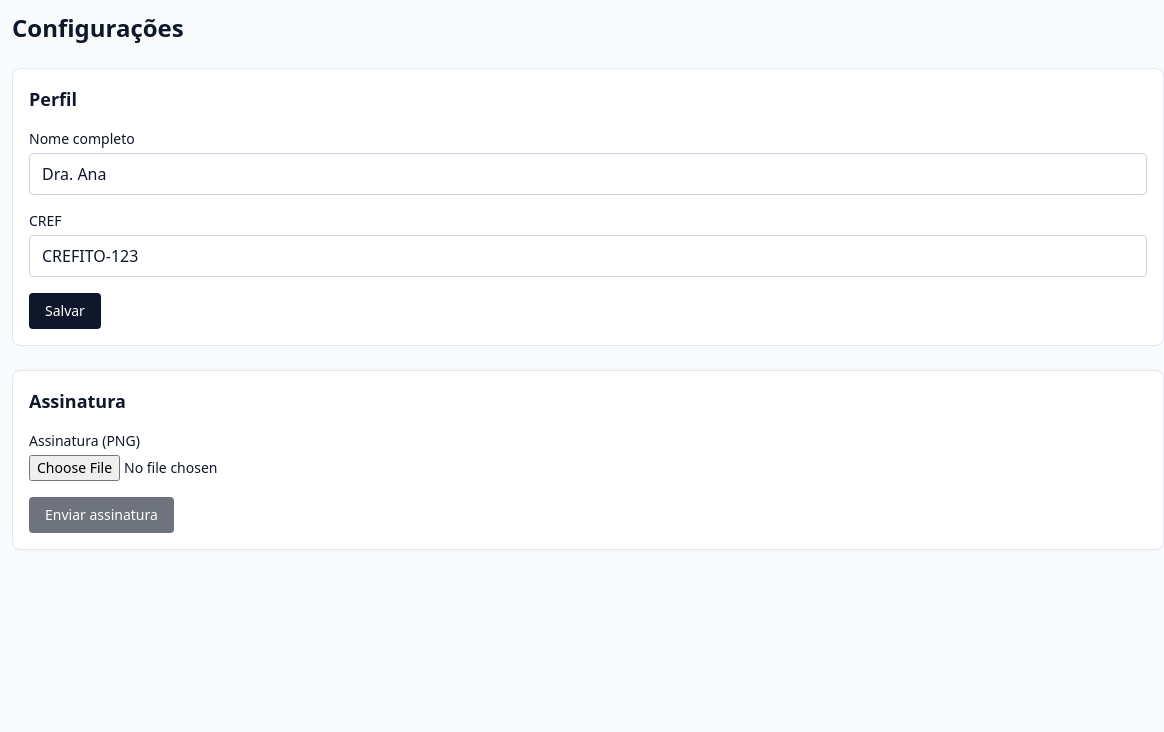
Test: Settings page › PATCHes /auth/me with the new name and CREF on save
The width and height of the screenshot is (1164, 732).
Replace the text in the field labelled "Nome completo" with "Dra. Maria" at (588,174), box [29, 153, 1147, 195]
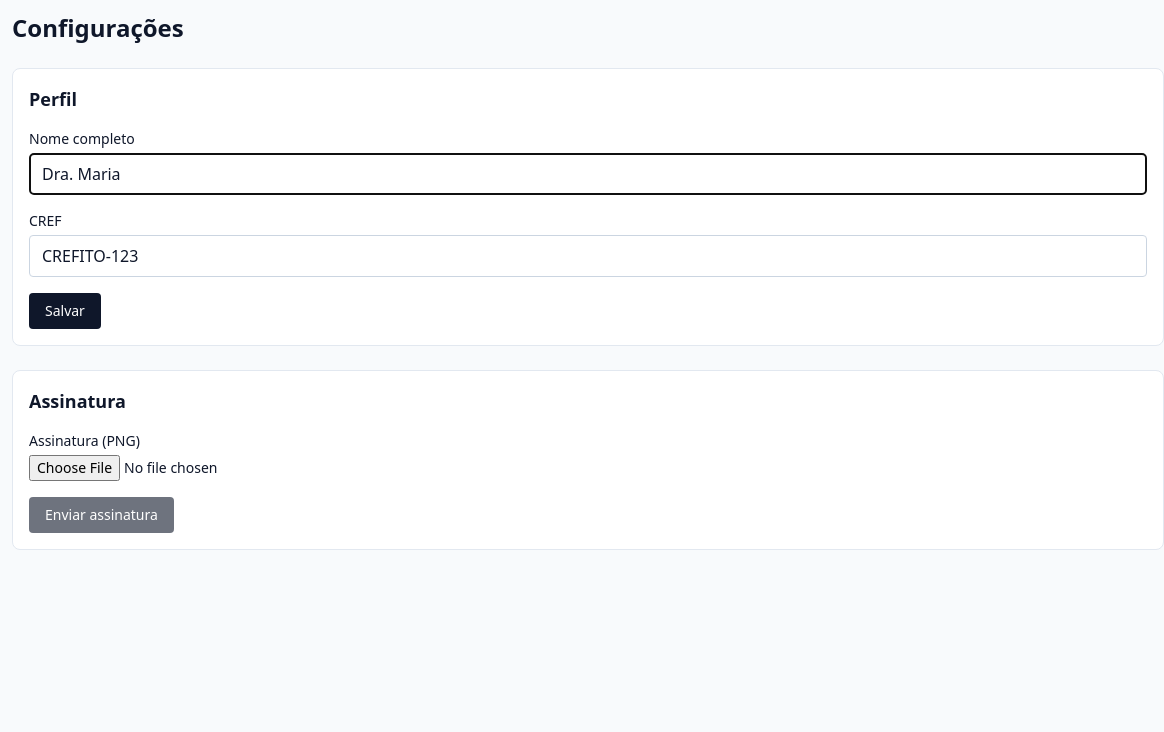
Replace the text in the field labelled "CREF" with "CREFITO-999" at (588,256), box [29, 235, 1147, 277]
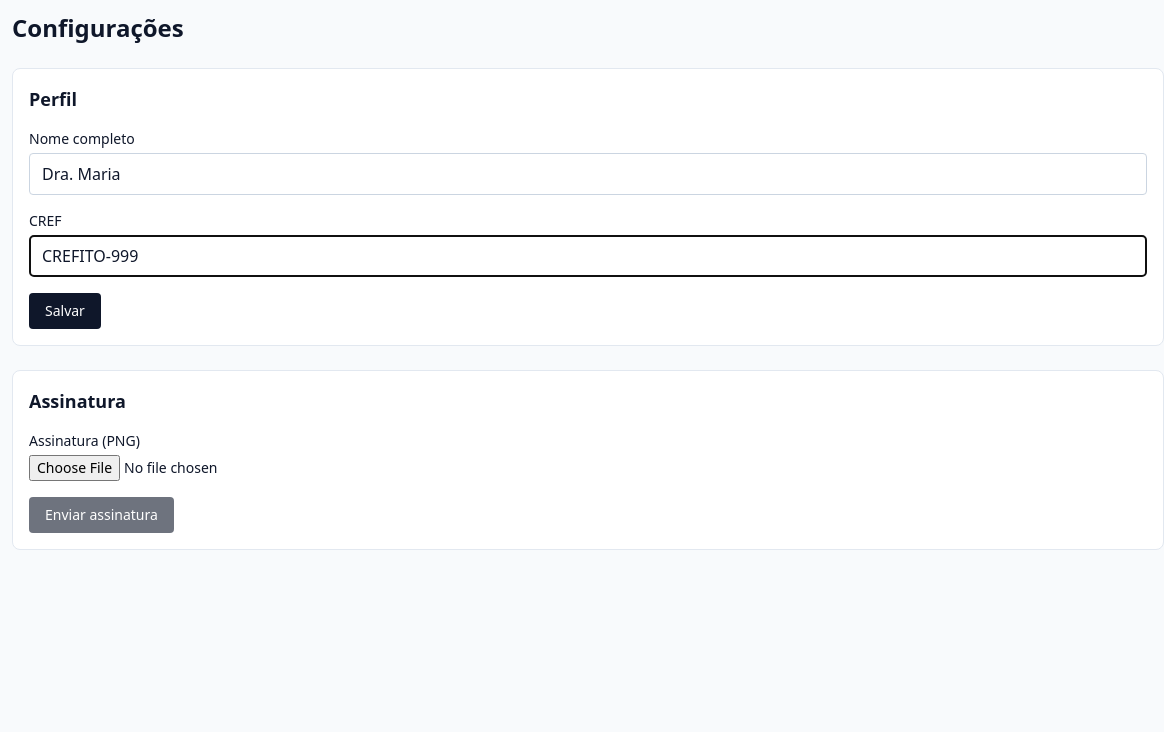
Click the button "Salvar" at (65,311), box [29, 293, 101, 329]
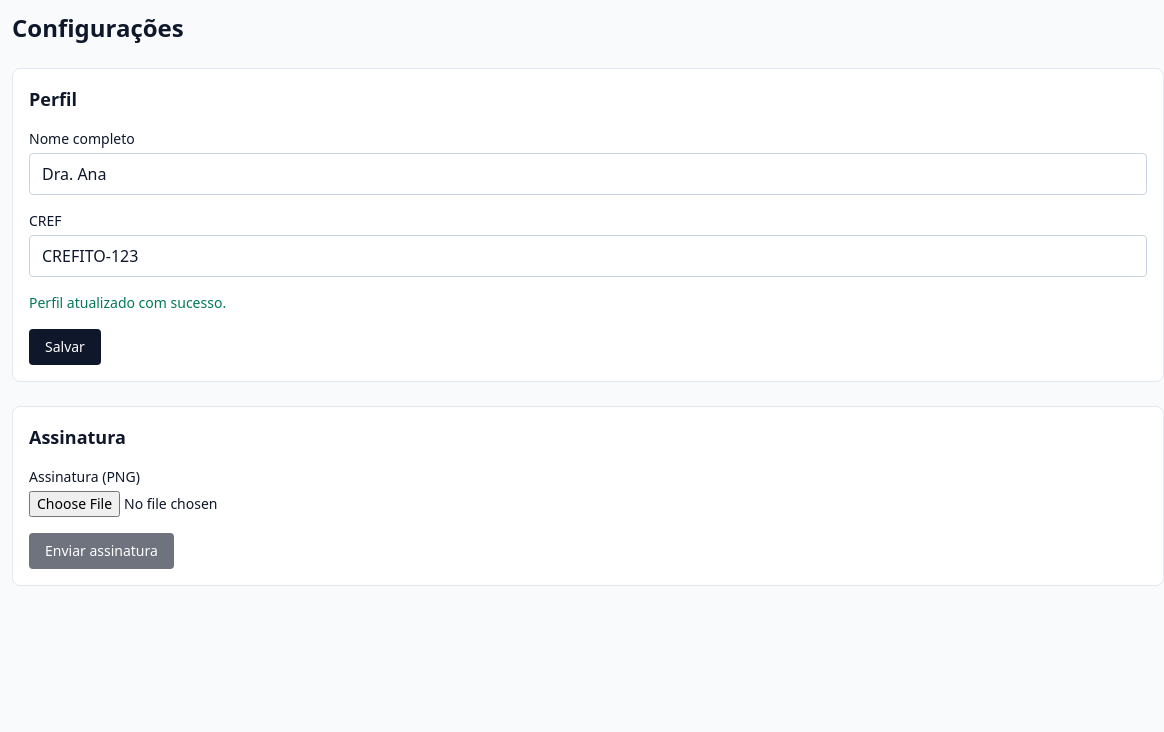
Check: the text "Perfil atualizado com sucesso." is shown, box [29, 293, 226, 312]
